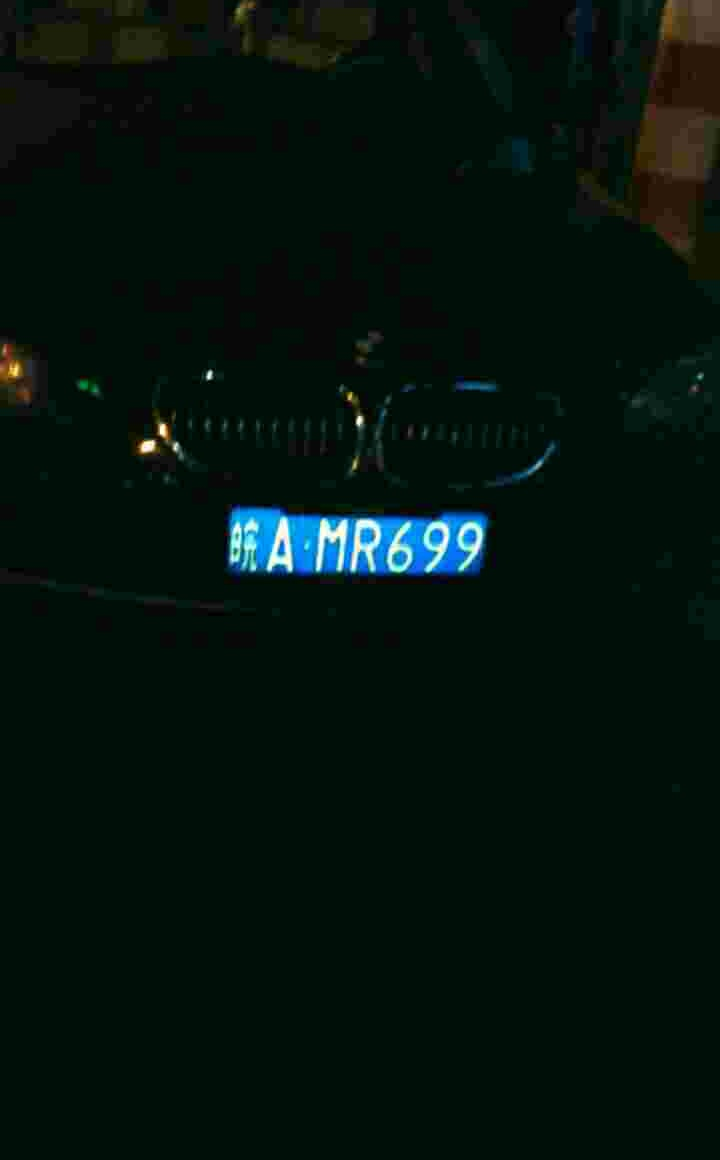plate: (222, 502, 504, 590)
